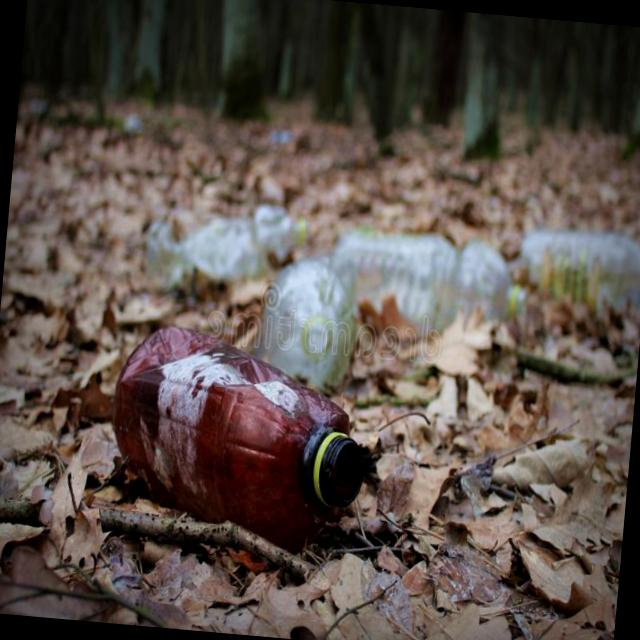garbage: (102, 297, 376, 531)
